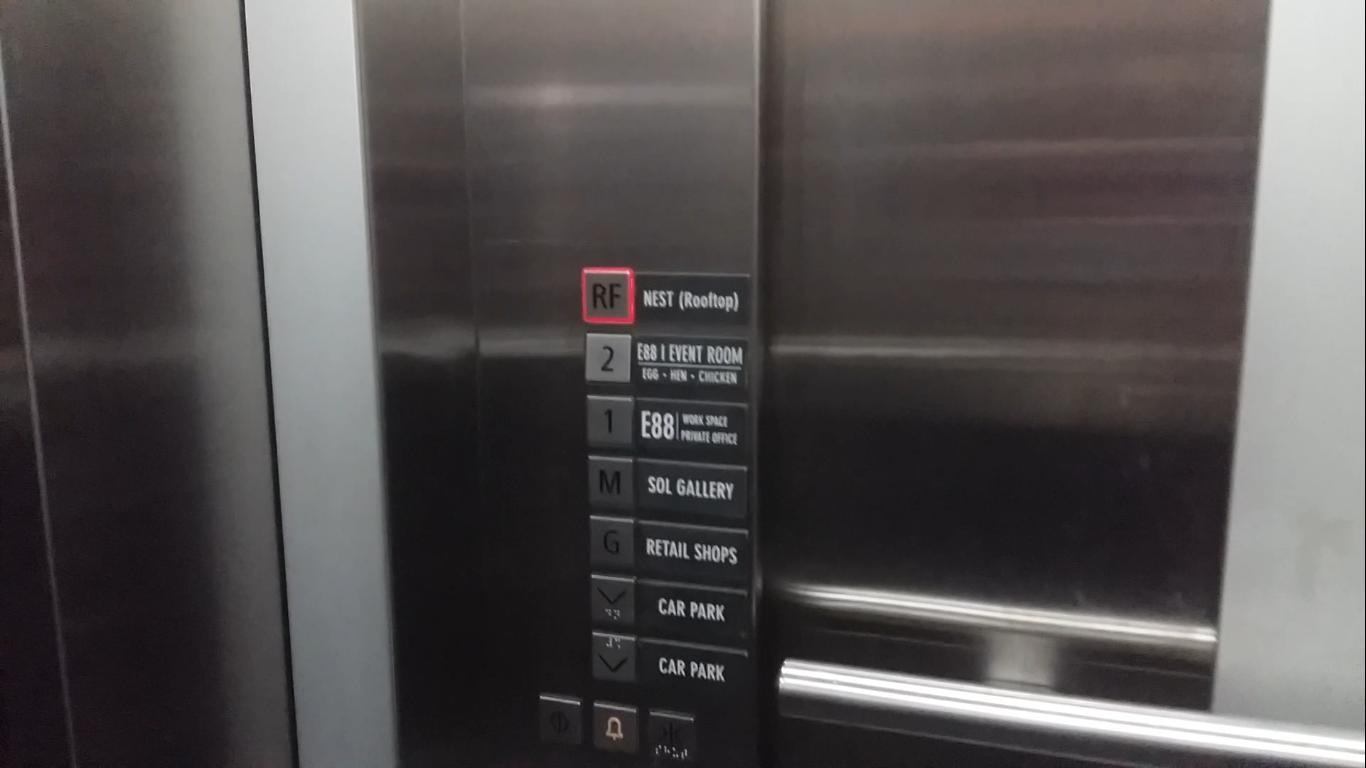1: (583, 393, 635, 448)
2: (582, 330, 634, 385)
G: (584, 511, 635, 571)
M: (584, 452, 635, 509)
RF: (578, 263, 635, 326)
alarm: (589, 700, 638, 755)
close: (644, 709, 693, 764)
down: (586, 571, 637, 629), (588, 629, 637, 684)
open: (535, 693, 584, 748)
